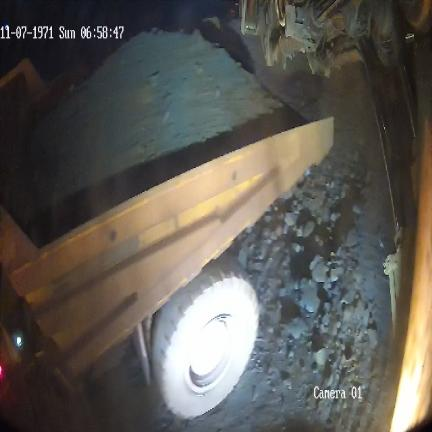pile: (7, 29, 301, 246), (238, 102, 395, 341)
